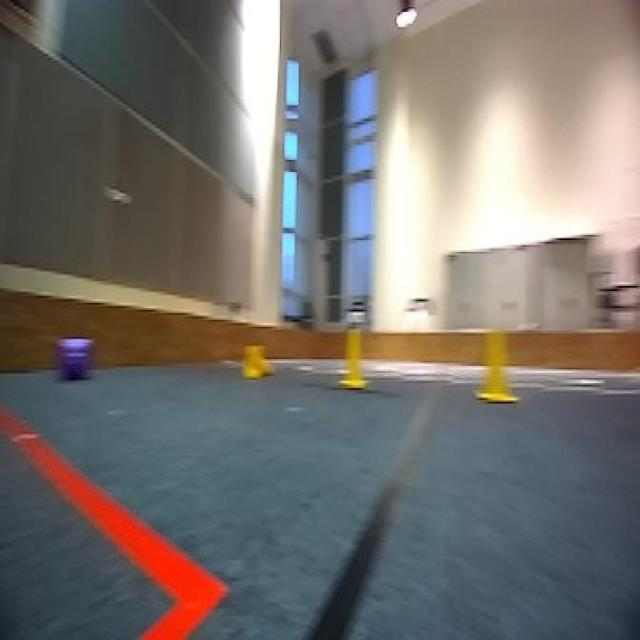frc_cone: (469, 322, 524, 405), (336, 325, 374, 386), (240, 344, 276, 381)
frc_cube: (62, 334, 91, 379)
